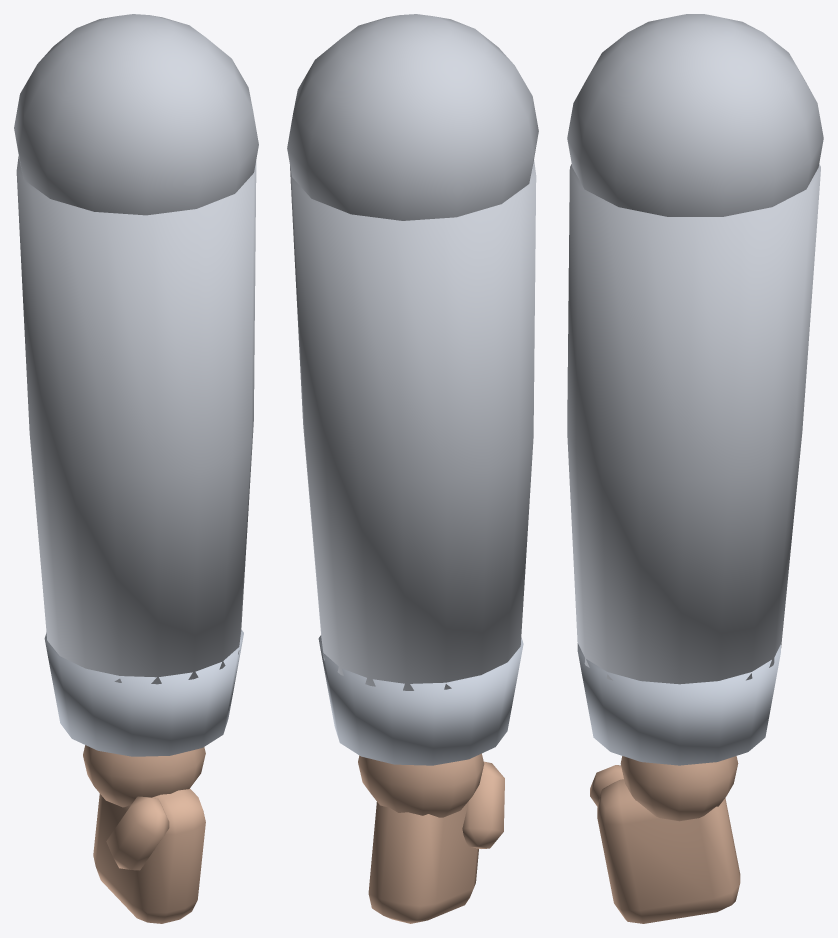
The model's file is coder_forearm_l.glb.
The picture shows the model from 3 angles, left to right: view 1: azimuth 30°, elevation 25°; view 2: azimuth 150°, elevation 25°; view 3: azimuth 270°, elevation 25°; orthographic projection. The views are drawn at different scales.
Parts seen in each view (by area): view 1: CoderPart; view 2: CoderPart; view 3: CoderPart.
Part boxes in pixels (left/top/right/bottom): CoderPart: left=14, top=14, right=258, bottom=923; CoderPart: left=287, top=14, right=538, bottom=923; CoderPart: left=567, top=14, right=823, bottom=923.
Size of the model in its own units: 0.092 by 0.369 by 0.096.
